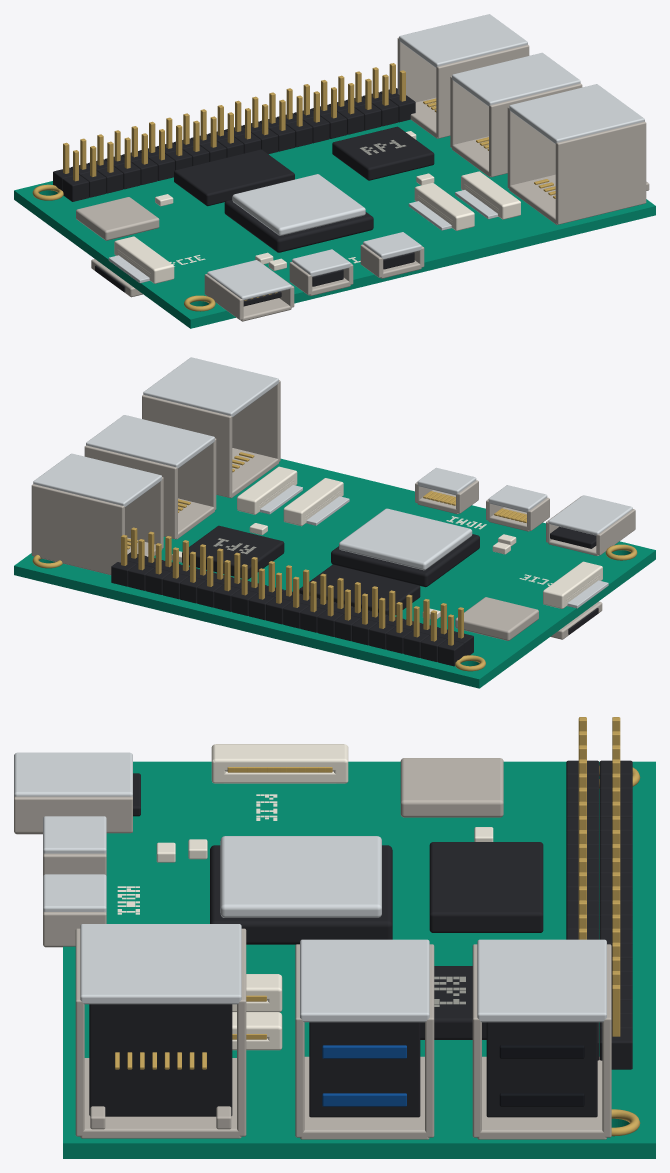
File: boards-16.glb
The picture shows the model from 3 angles, top to bottom: view 1: azimuth 30°, elevation 25°; view 2: azimuth 150°, elevation 25°; view 3: azimuth 270°, elevation 25°; orthographic projection. The views are drawn at different scales.
Parts seen in each view (by area): view 1: board, gpio, ethernet, usb3, usb2, cpu, hdmi, memory, ribbon, power, io, pcie (+1 smaller); view 2: board, gpio, usb2, ethernet, usb3, cpu, hdmi, ribbon, power, io, memory, pcie (+1 smaller); view 3: board, ethernet, usb3, usb2, cpu, gpio, memory, power, hdmi, pcie, ribbon, io.
Boxes of the visible parts, x1=… form: board: x1=14, y1=119, x2=655, y2=328; gpio: x1=53, y1=63, x2=415, y2=201; ethernet: x1=507, y1=84, x2=649, y2=224; usb3: x1=450, y1=52, x2=582, y2=177; usb2: x1=397, y1=14, x2=529, y2=138; cpu: x1=224, y1=174, x2=373, y2=252; hdmi: x1=289, y1=232, x2=424, y2=295; memory: x1=174, y1=149, x2=294, y2=206; ribbon: x1=408, y1=171, x2=520, y2=230; power: x1=204, y1=260, x2=294, y2=321; io: x1=332, y1=126, x2=434, y2=180; pcie: x1=108, y1=236, x2=174, y2=283; board: x1=14, y1=458, x2=655, y2=688; gpio: x1=111, y1=527, x2=473, y2=666; usb2: x1=31, y1=453, x2=163, y2=575; ethernet: x1=142, y1=357, x2=280, y2=498; usb3: x1=84, y1=415, x2=216, y2=539; cpu: x1=331, y1=508, x2=479, y2=587; hdmi: x1=415, y1=467, x2=549, y2=531; ribbon: x1=237, y1=466, x2=349, y2=526; power: x1=546, y1=495, x2=635, y2=555; io: x1=182, y1=525, x2=284, y2=579; memory: x1=299, y1=564, x2=420, y2=615; pcie: x1=543, y1=561, x2=608, y2=608; board: x1=63, y1=758, x2=655, y2=1158; ethernet: x1=75, y1=924, x2=246, y2=1138; usb3: x1=295, y1=939, x2=434, y2=1139; usb2: x1=472, y1=939, x2=611, y2=1139; cpu: x1=210, y1=836, x2=392, y2=944; gpio: x1=566, y1=717, x2=632, y2=1069; memory: x1=429, y1=842, x2=543, y2=932; power: x1=14, y1=752, x2=140, y2=834; hdmi: x1=43, y1=816, x2=106, y2=947; pcie: x1=211, y1=744, x2=348, y2=783; ribbon: x1=232, y1=974, x2=282, y2=1050; io: x1=420, y1=966, x2=486, y2=1039.
Bounding box in the file's own units: 3.46 × 0.729 × 2.42.
